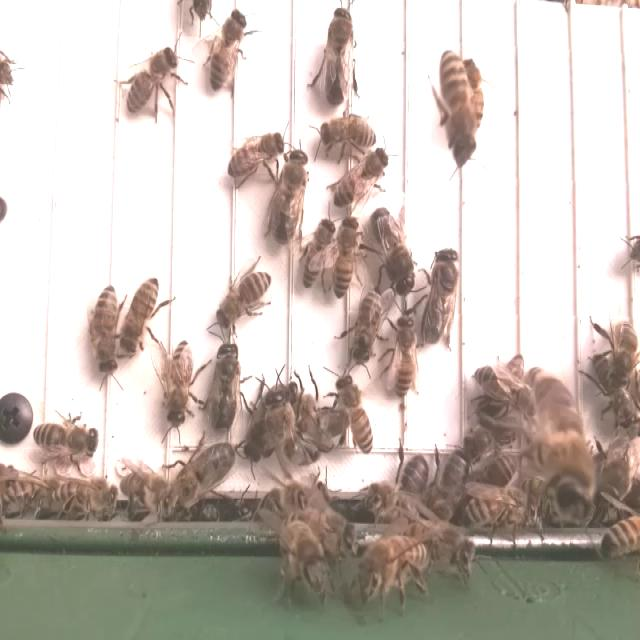Drone: (160, 440, 237, 514), (418, 244, 462, 349), (368, 206, 417, 299), (269, 147, 310, 249), (207, 340, 242, 439), (323, 4, 355, 107)
Worker: (439, 47, 474, 158), (123, 46, 178, 115), (328, 147, 389, 208), (217, 268, 274, 330), (224, 129, 289, 182), (211, 8, 249, 94), (121, 274, 160, 357), (337, 378, 376, 458), (164, 336, 195, 428), (389, 311, 420, 400), (92, 282, 121, 376), (299, 218, 335, 291), (462, 490, 532, 527), (331, 213, 360, 300), (350, 290, 382, 368), (32, 422, 100, 458), (320, 112, 377, 153)
